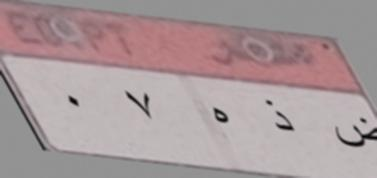0: (57, 89, 90, 120)
7: (118, 85, 164, 125)
daad: (334, 110, 377, 153)
haa: (200, 104, 237, 130)
zaal: (259, 96, 300, 140)
